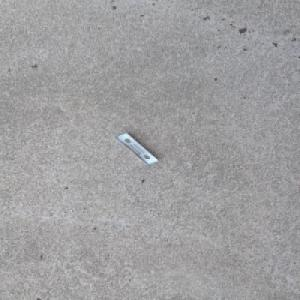ClampPart: (113, 131, 160, 165)
